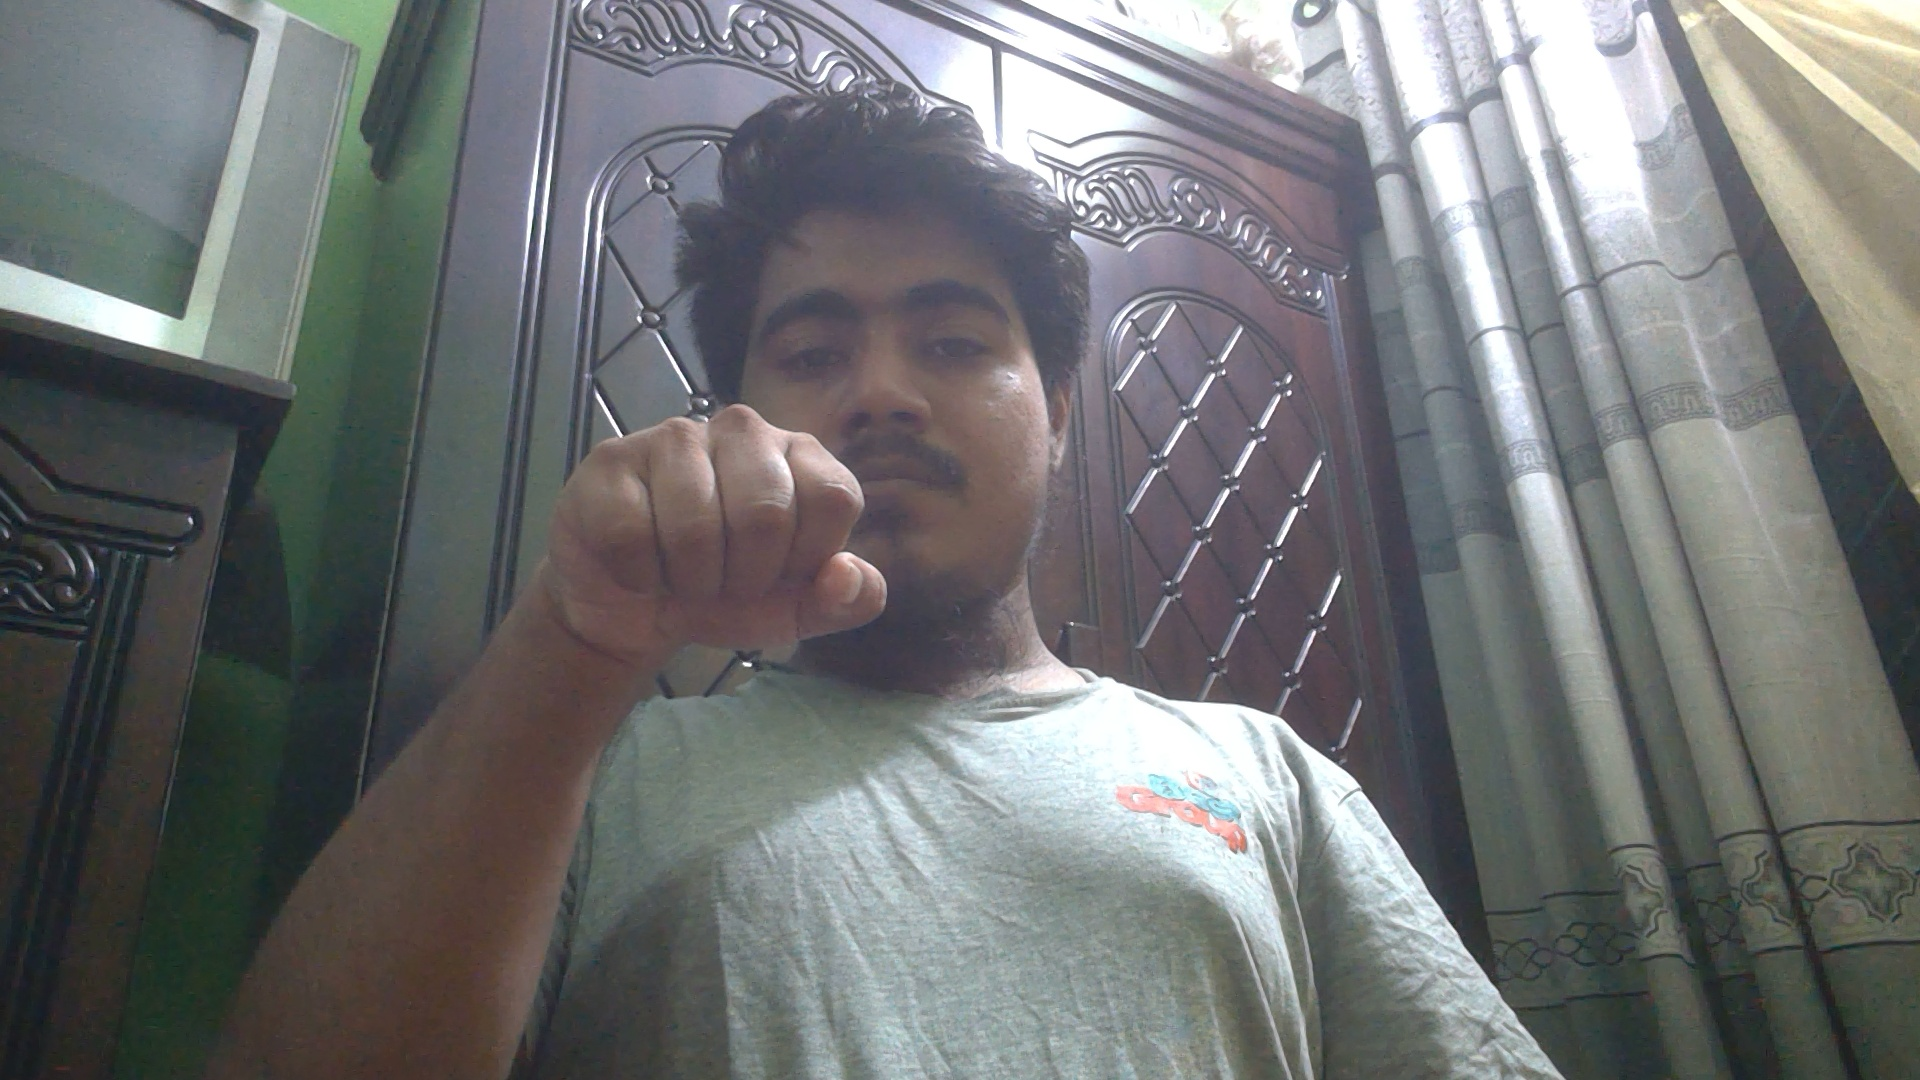yes: (541, 398, 899, 680)
